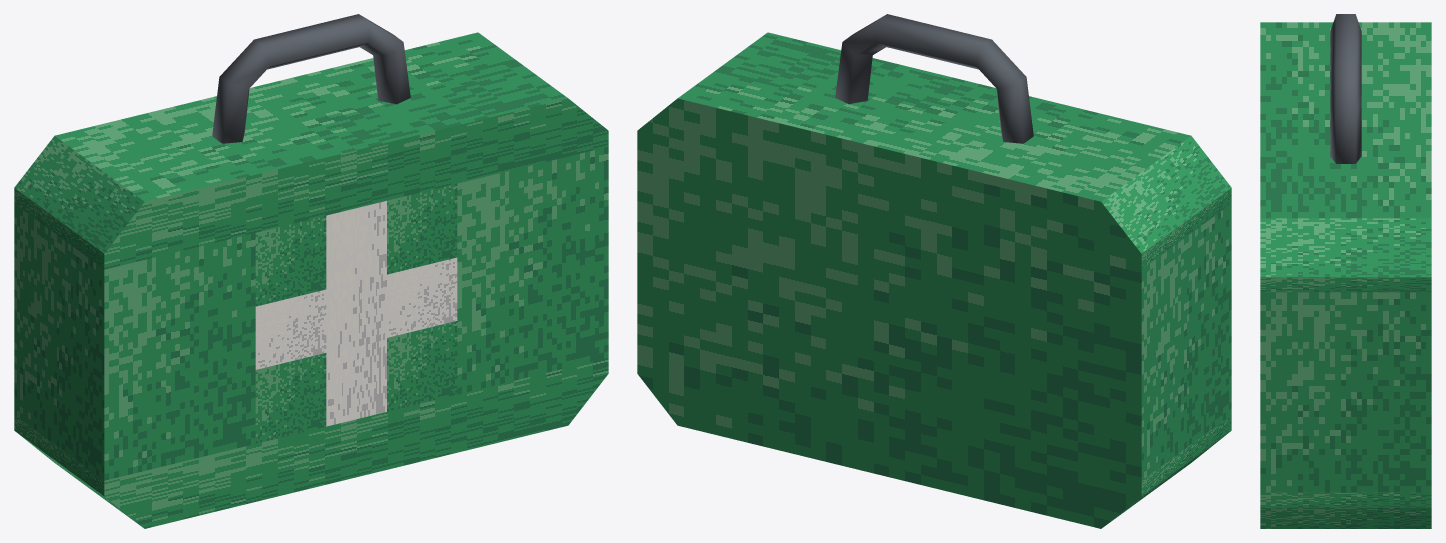
Rendered from life-medicalKit.glb.
3 renders of one model, left to right at view 1: azimuth 30°, elevation 25°; view 2: azimuth 150°, elevation 25°; view 3: azimuth 270°, elevation 25°, orthographic. The views are drawn at different scales.
Parts seen in each view (by area): view 1: life.medicalKit; view 2: life.medicalKit; view 3: life.medicalKit.
Part boxes in pixels (x1=…): life.medicalKit: x1=14, y1=14, x2=608, y2=528; life.medicalKit: x1=637, y1=14, x2=1231, y2=528; life.medicalKit: x1=1260, y1=14, x2=1431, y2=528.
Size of the model in its own units: 1.64 by 1.29 by 0.5087.
Materials: 4 (4 with a texture image).
